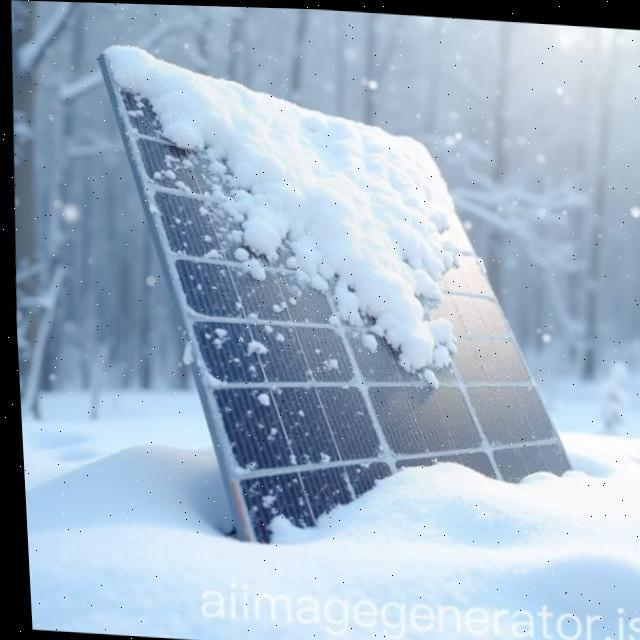Anomaly Solar Panel: (104, 9, 581, 560)
Snow: (48, 38, 497, 388), (237, 436, 581, 554), (223, 292, 290, 350), (286, 338, 344, 392), (258, 277, 304, 321), (197, 317, 233, 350), (246, 386, 271, 407), (241, 338, 258, 356)
